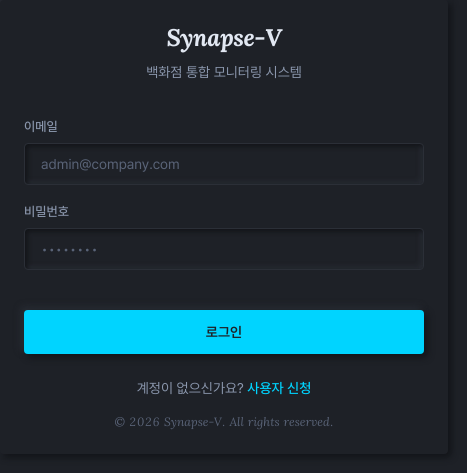
Test case: LoginPage › 로그인 성공 → 네비게이션
Type "admin@test.com" into the field labelled "이메일" at (224, 164), box [24, 143, 424, 185]
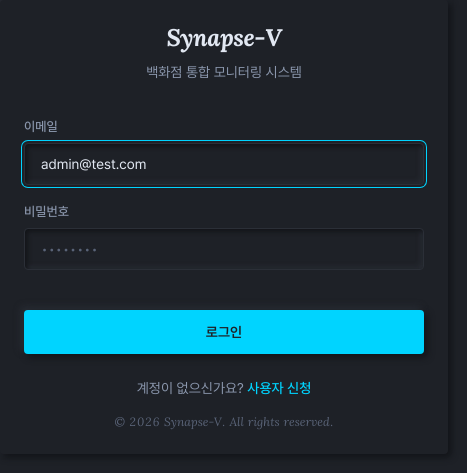
Type "password123" into the password field labelled "비밀번호" at (224, 249), box [24, 228, 424, 270]
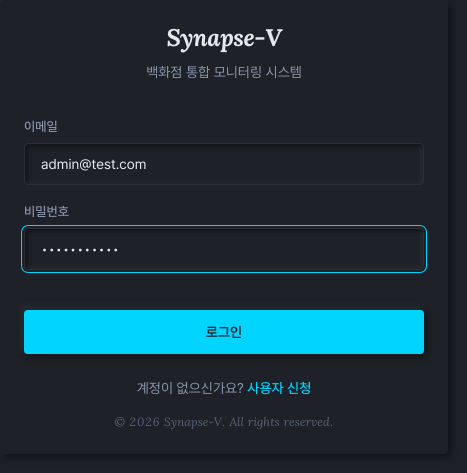
Click the button "로그인" at (224, 332), box [24, 310, 424, 354]
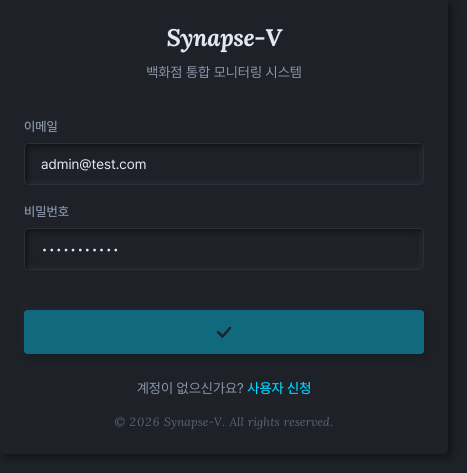
Expected: the icon named "로그인 성공" is shown, [215, 323, 233, 341]
